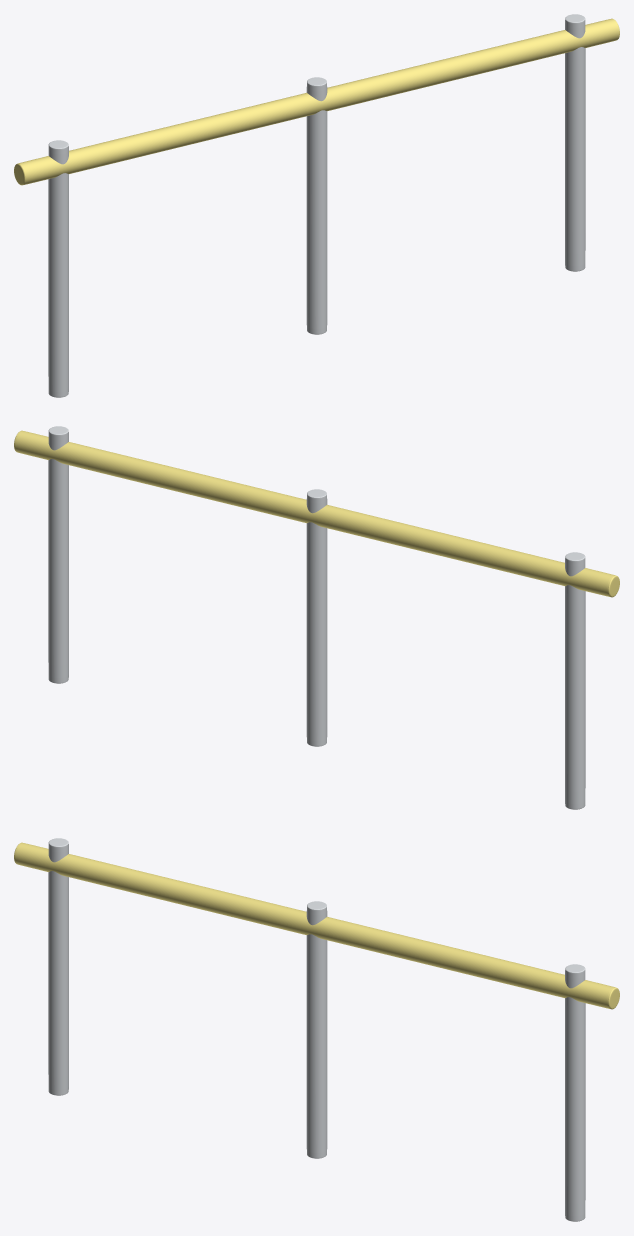
The model's file is Toy_Bars_Rail_Hi.fbx.
3 views of the same model, one above another, from view 1: azimuth 30°, elevation 25°; view 2: azimuth 150°, elevation 25°; view 3: azimuth 330°, elevation 25° (orthographic).
Visible parts, largest first — view 1: Cylinder, Cylinder.002, Cylinder.001, Cylinder.003; view 2: Cylinder, Cylinder.002, Cylinder.001, Cylinder.003; view 3: Cylinder, Cylinder.002, Cylinder.001, Cylinder.003.
Boxes of the visible parts, left/top/right/bottom form: Cylinder: left=14, top=18, right=619, bottom=185; Cylinder.002: left=306, top=77, right=327, bottom=334; Cylinder.001: left=48, top=140, right=68, bottom=397; Cylinder.003: left=565, top=14, right=585, bottom=271; Cylinder: left=14, top=430, right=619, bottom=597; Cylinder.002: left=306, top=489, right=327, bottom=746; Cylinder.001: left=565, top=552, right=585, bottom=809; Cylinder.003: left=48, top=426, right=68, bottom=683; Cylinder: left=14, top=842, right=619, bottom=1009; Cylinder.002: left=306, top=901, right=327, bottom=1158; Cylinder.001: left=48, top=838, right=68, bottom=1095; Cylinder.003: left=565, top=964, right=585, bottom=1221.
Bounding box in the file's own units: 3 × 1.2 × 0.0996.
